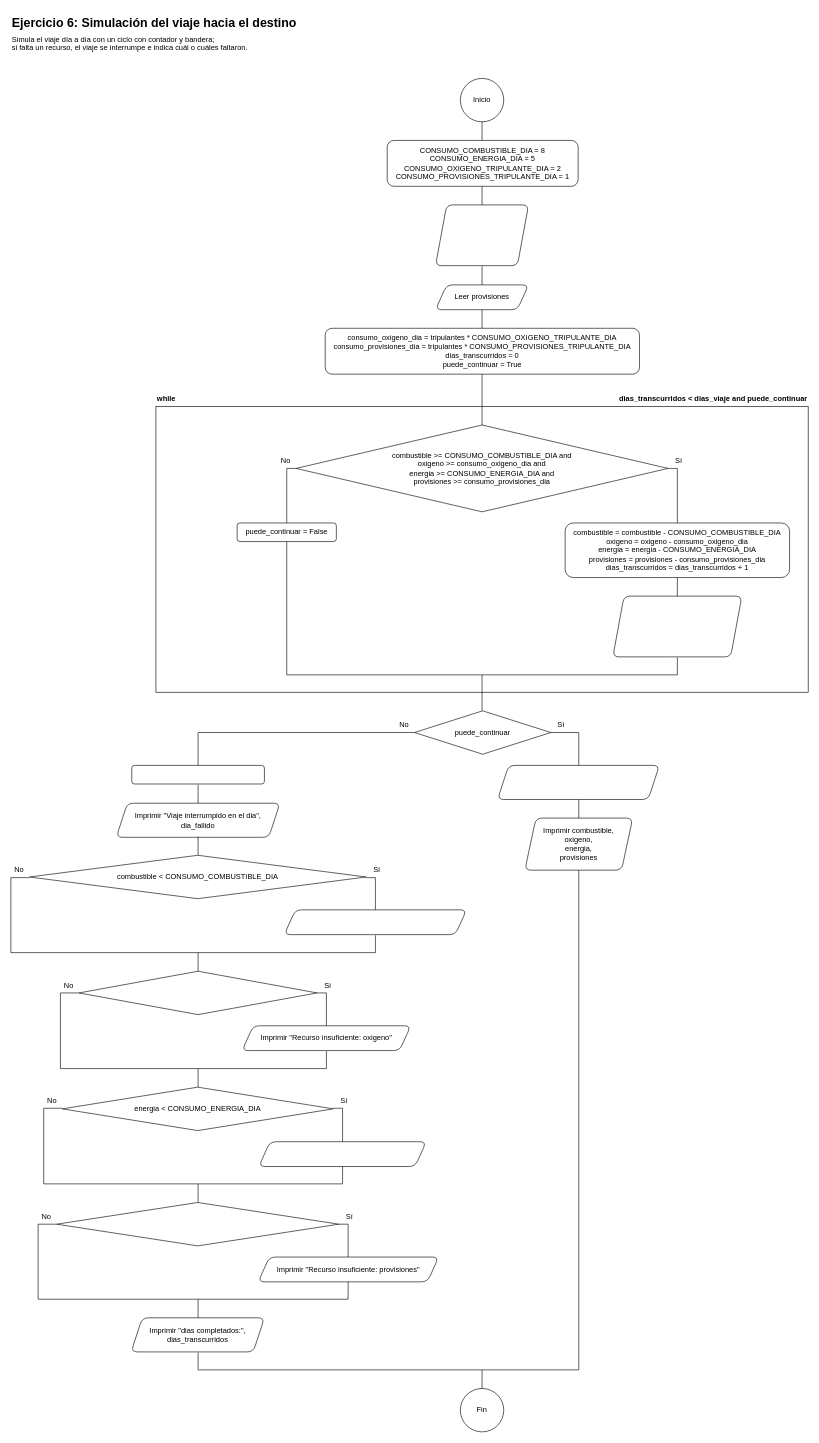
Some shapes in this 819 by 1443 pixel diagram are drawn without their labels. Here are the shapes that lost their labels. From the top down, the box of each, then its label:
(435, 204, 529, 266): Leer dias_viaje, tripulantes, combustible, oxigeno, energia,
(612, 596, 742, 657): Imprimir dias_transcurridos, combustible, oxigeno, energia, provisiones
(131, 765, 264, 784): dia_fallido = dias_transcurridos + 1
(497, 765, 659, 799): Imprimir "La nave llego al destino en", dias_transcurridos, "dias"
(284, 909, 467, 935): Imprimir "Recurso insuficiente: combustible"
(78, 971, 317, 1015): oxigeno < consumo_oxigeno_dia
(258, 1141, 426, 1167): Imprimir "Recurso insuficiente: energia"
(56, 1202, 339, 1246): provisiones < consumo_provisiones_dia
